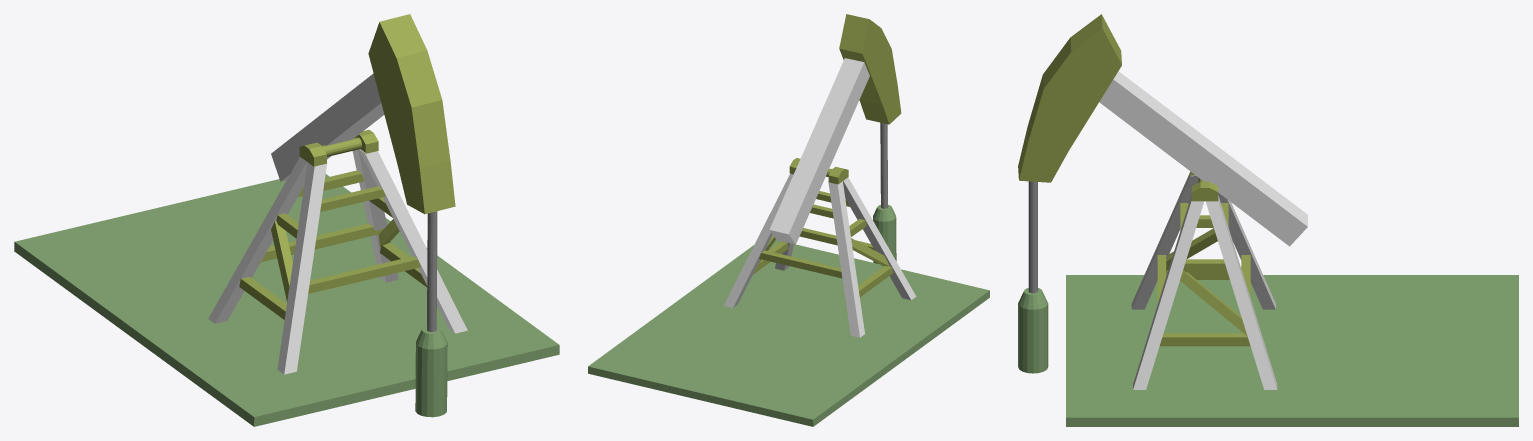
File: Sonda Terrestre Sustentavel.fbx
3 renders of one model, left to right at view 1: azimuth 30°, elevation 25°; view 2: azimuth 150°, elevation 25°; view 3: azimuth 270°, elevation 25°, orthographic. The views are drawn at different scales.
Parts seen in each view (by area): view 1: Sonda Terrestre Sustentavel; view 2: Sonda Terrestre Sustentavel; view 3: Sonda Terrestre Sustentavel.
Part boxes in pixels (bbox=[...]): Sonda Terrestre Sustentavel: bbox=[14, 14, 559, 426]; Sonda Terrestre Sustentavel: bbox=[588, 14, 989, 426]; Sonda Terrestre Sustentavel: bbox=[1018, 14, 1518, 426].
Size of the model in its own units: 48.34 by 55.37 by 72.64.
